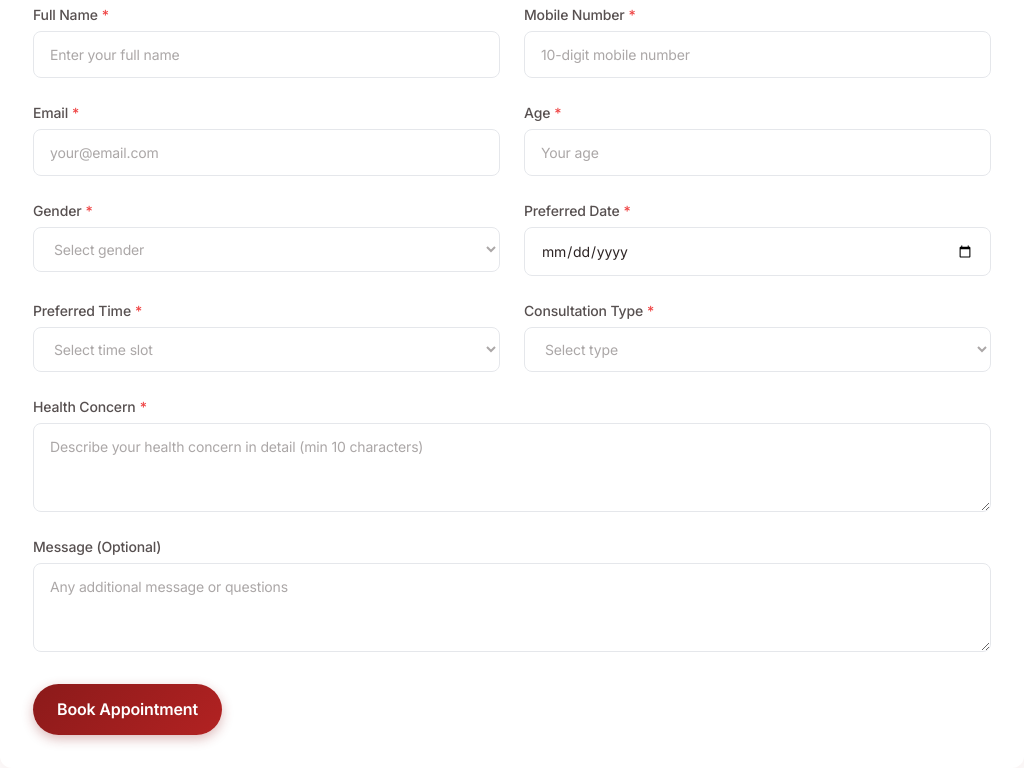
Test: AppointmentForm › Form submission validation › shows all validation errors on submit with empty form
This screenshot has width=1024, height=768.
(page scrolled)
Click the button "Book Appointment": (127,710) [33, 684, 222, 735]
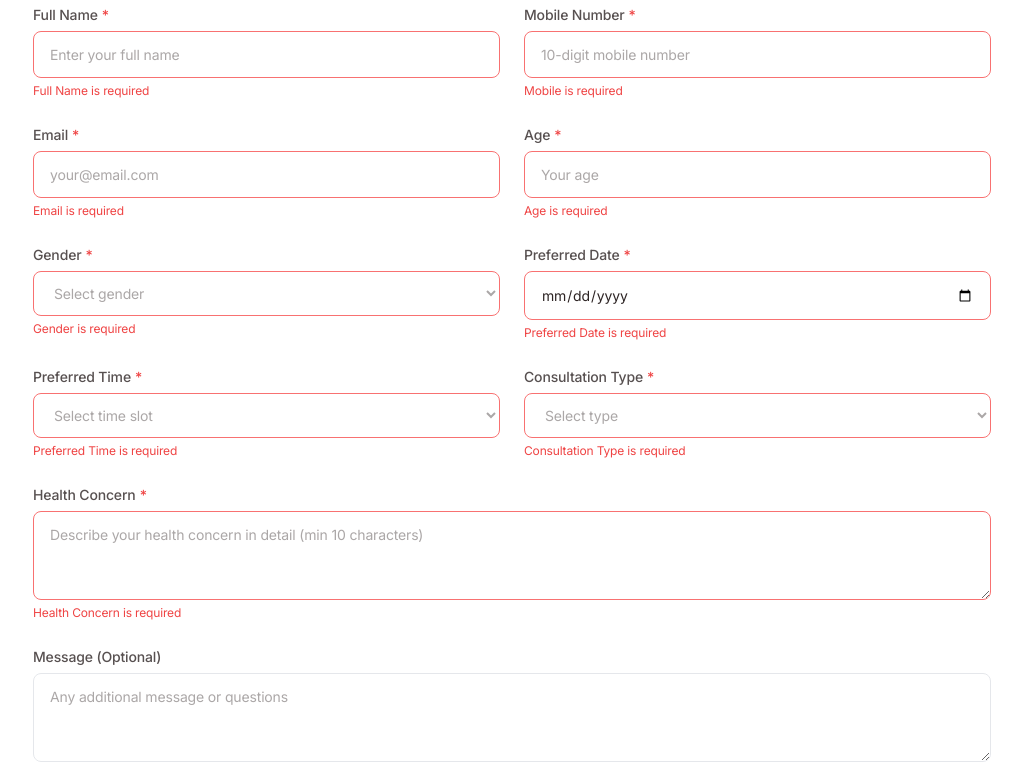
Now the text "Full Name is required" is shown, box [33, 83, 149, 98]
Now the text "Mobile is required" is shown, box [524, 83, 623, 98]
Now the text "Email is required" is shown, box [33, 203, 124, 218]
